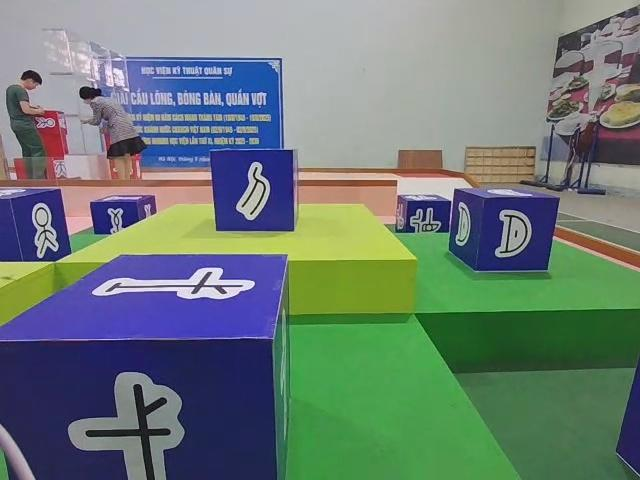R2 Real Blue: (0, 249, 293, 480), (447, 187, 559, 275), (212, 147, 302, 233), (0, 187, 69, 264), (91, 195, 159, 237), (395, 195, 453, 235)
